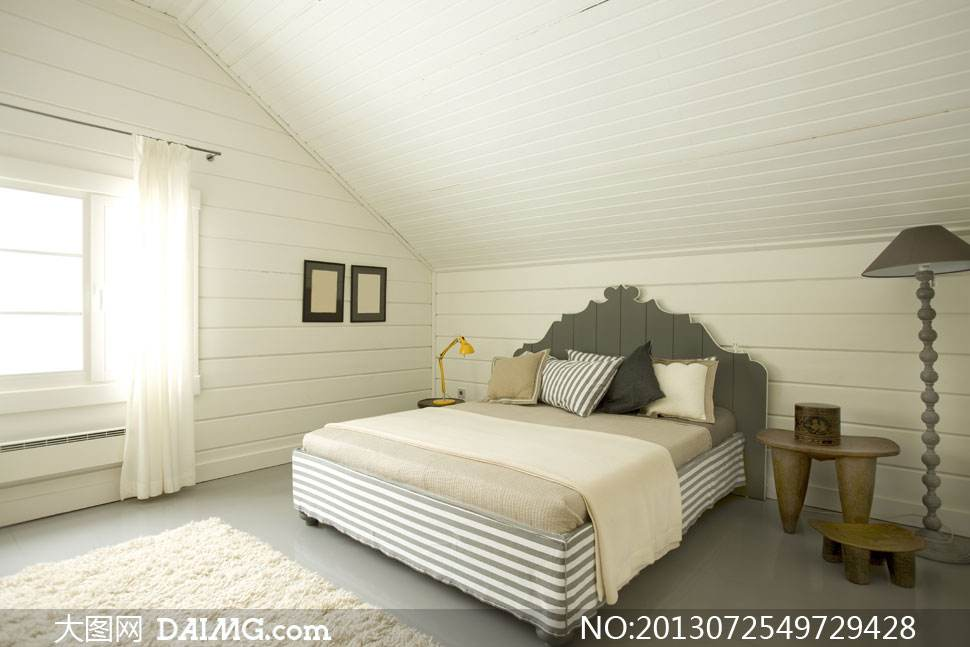床: (287, 386, 729, 625)
枕头: (481, 345, 725, 417)
灯: (869, 228, 967, 547), (434, 337, 479, 404), (199, 151, 219, 164)
